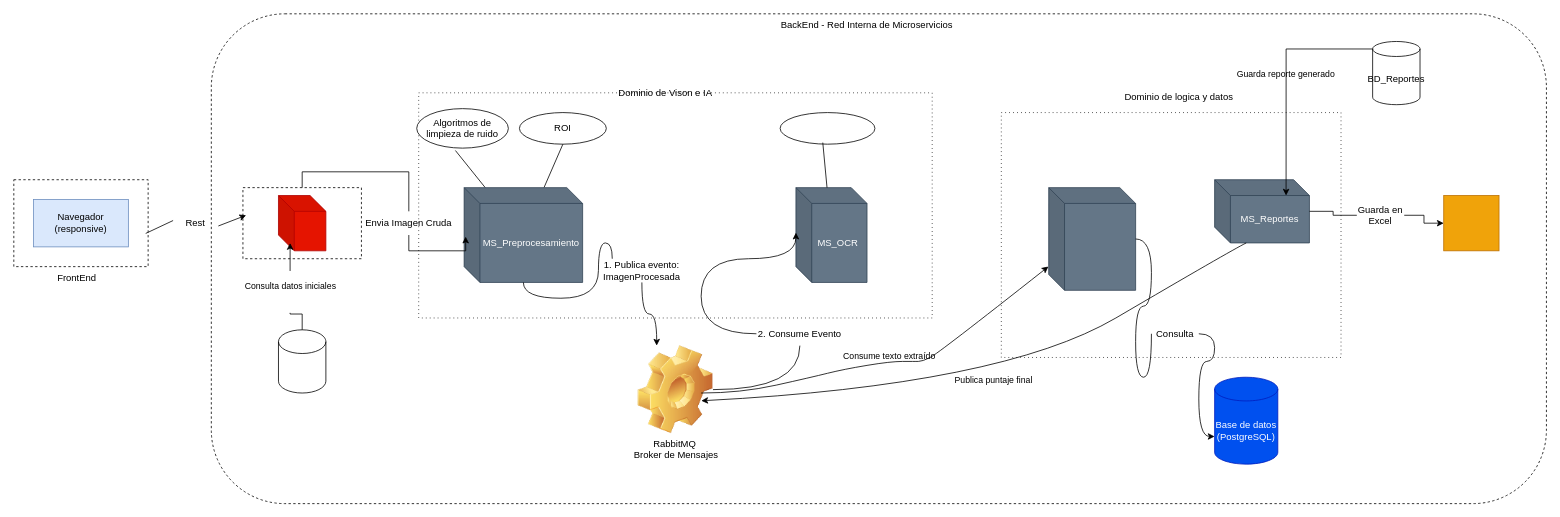
Some shapes in this 1560 by 517 pixel diagram are drawn without their labels. Each missing label, with the centre of its shape:
"API" goes at [302,223].
"BD_API" goes at [302,361].
"MS_Calificacion" goes at [1092,238].
"Reporte" goes at [1471,223].
"Tesseract" goes at [827,128].
